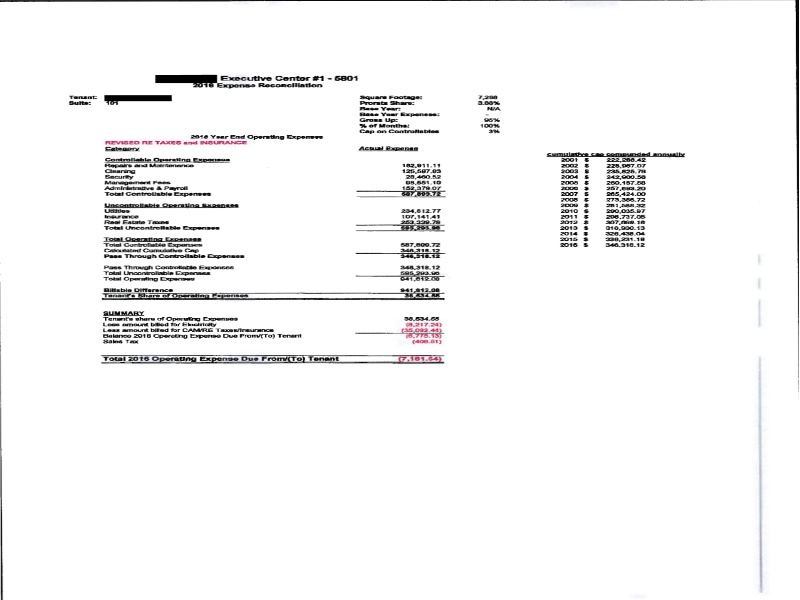table: (100, 133, 445, 376), (543, 145, 691, 254), (356, 89, 504, 135)
